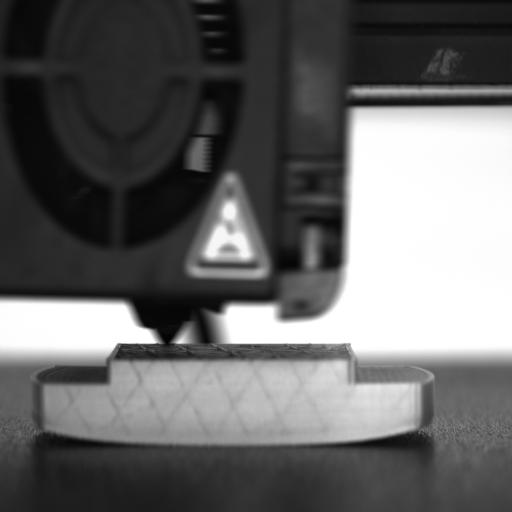warp: (360, 416, 440, 446)
